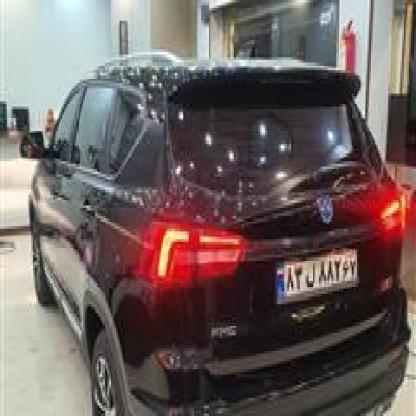Car: (0, 44, 413, 416)
